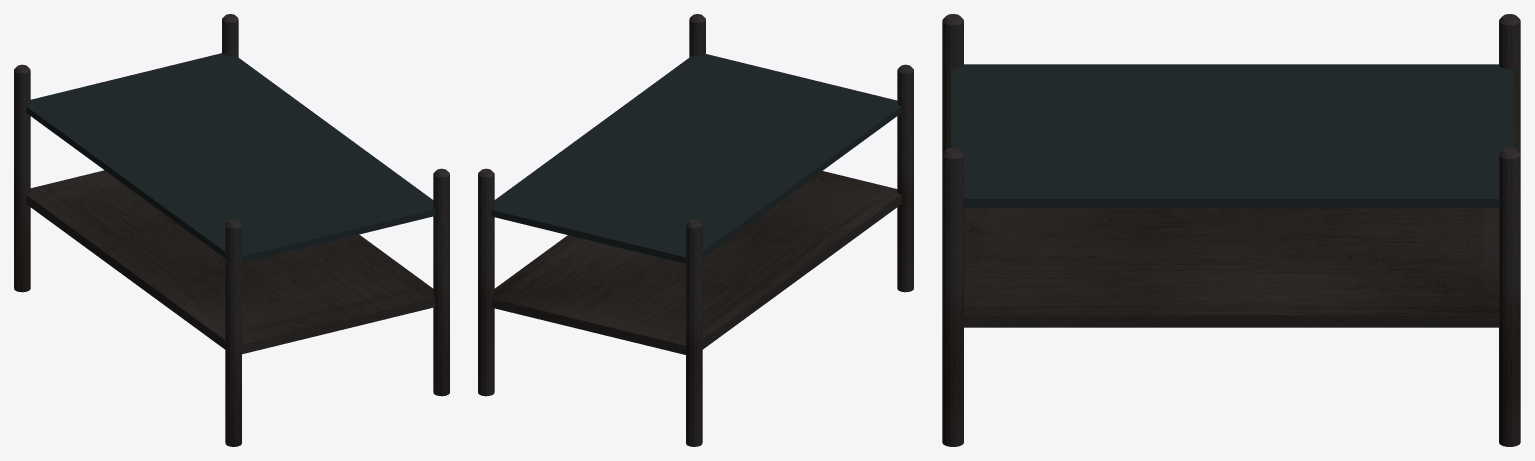
Rendered from FPH_TeaTable.fbx.
3 views of the same model, side by side, from view 1: azimuth 30°, elevation 25°; view 2: azimuth 150°, elevation 25°; view 3: azimuth 270°, elevation 25° (orthographic). The views are drawn at different scales.
Visible parts, largest first — view 1: FPH_TeaTable; view 2: FPH_TeaTable; view 3: FPH_TeaTable.
Boxes of the visible parts, x1,y1,x2,y2 form: FPH_TeaTable: [14, 14, 449, 446]; FPH_TeaTable: [478, 14, 913, 446]; FPH_TeaTable: [942, 14, 1520, 446].
Size of the model in its own units: 3.18 by 3.03 by 5.45.
Materials: 2 (2 with a texture image).
